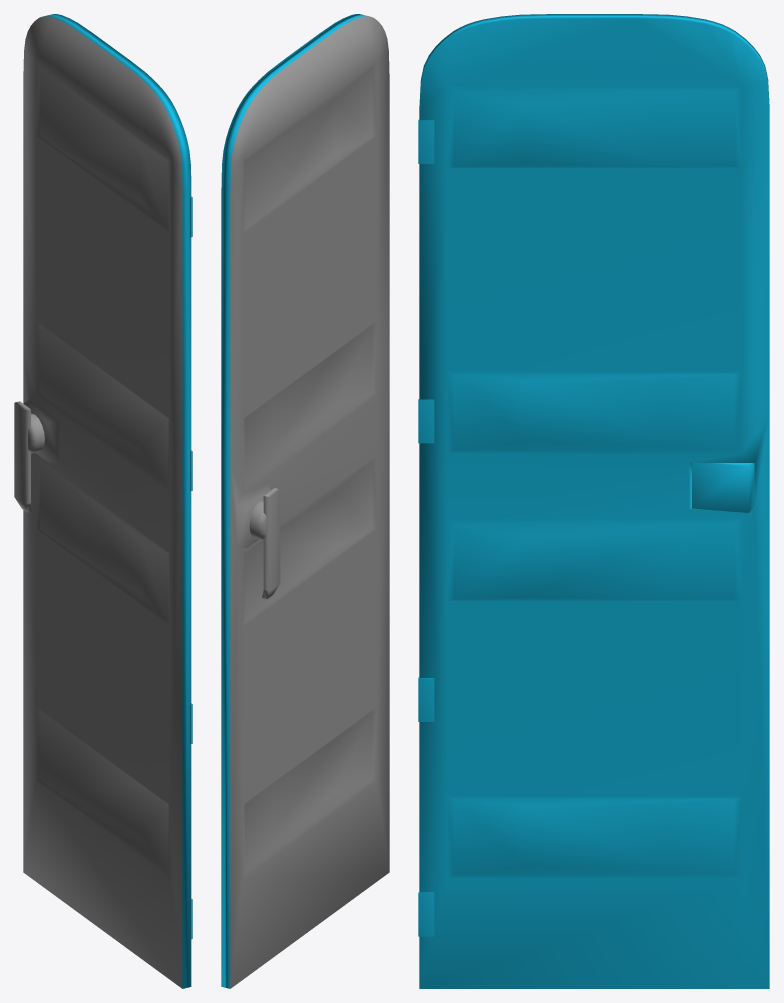
The model's file is SM_Portapotty_03.fbx.
3 views of the same model, side by side, from view 1: azimuth 30°, elevation 25°; view 2: azimuth 150°, elevation 25°; view 3: azimuth 270°, elevation 25° (orthographic). The views are drawn at different scales.
Parts seen in each view (by area): view 1: low_triangulated; view 2: low_triangulated; view 3: low_triangulated.
Boxes of the visible parts, left/top/right/bottom form: low_triangulated: left=14, top=14, right=192, bottom=988; low_triangulated: left=221, top=14, right=389, bottom=988; low_triangulated: left=418, top=14, right=769, bottom=988.
Bounding box in the file's own units: 8.67 × 185 × 60.74.
